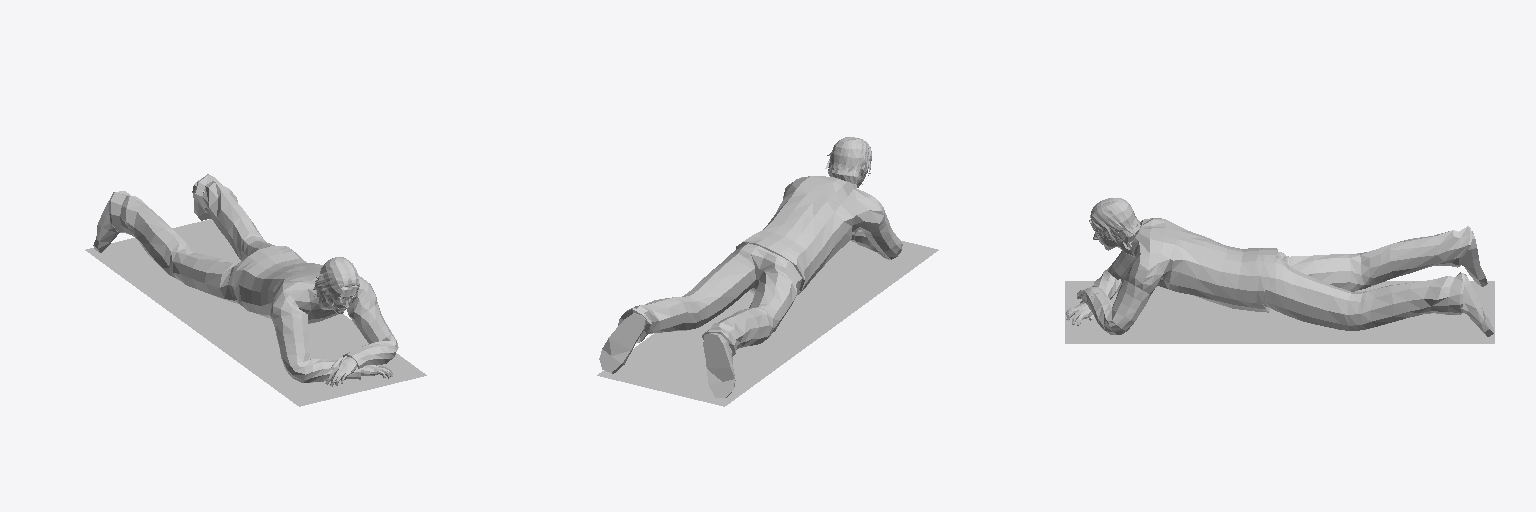
The picture shows the model from 3 angles: view 1: azimuth 30°, elevation 25°; view 2: azimuth 150°, elevation 25°; view 3: azimuth 270°, elevation 25°; orthographic projection.
Visible parts, largest first — view 1: Object01_2, ground_1, Object01_3170_4; view 2: Object01_2, ground_1, Object01_3170_4; view 3: Object01_2, ground_1, Object01_3170_4.
Boxes of the visible parts, x1,y1,x2,y2 form: Object01_2: [93, 174, 398, 386]; ground_1: [85, 219, 426, 406]; Object01_3170_4: [313, 257, 359, 305]; Object01_2: [599, 176, 902, 397]; ground_1: [597, 240, 938, 406]; Object01_3170_4: [825, 137, 871, 187]; Object01_2: [1066, 218, 1494, 336]; ground_1: [1065, 281, 1494, 343]; Object01_3170_4: [1089, 198, 1140, 246].
Size of the model in its own units: 67.1 by 56.7 by 194.